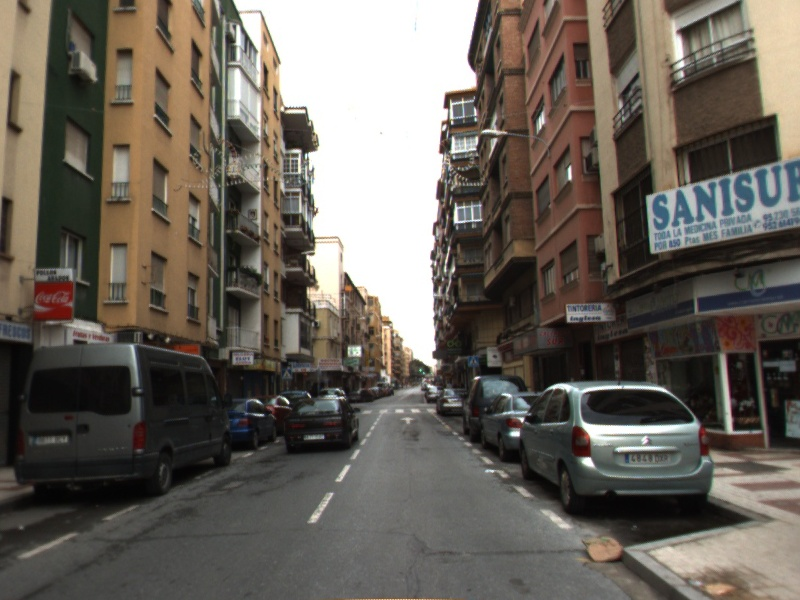STRAIGHT: (398, 415, 418, 426)
